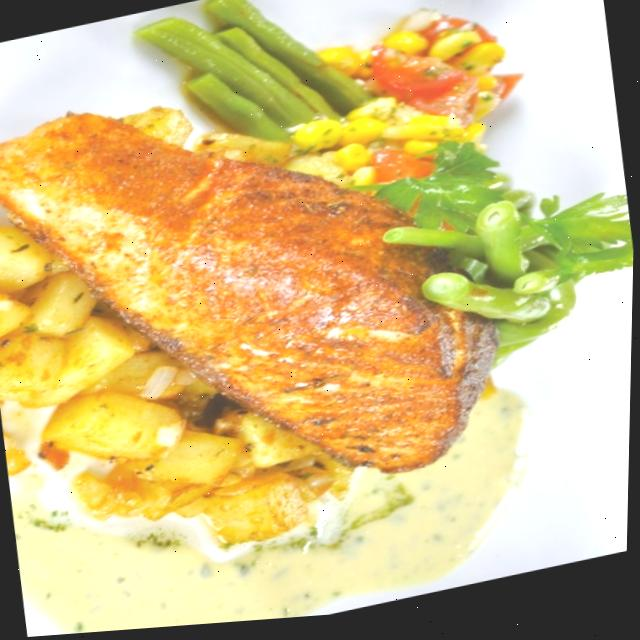熟制海鲜: (0, 5, 521, 561)
